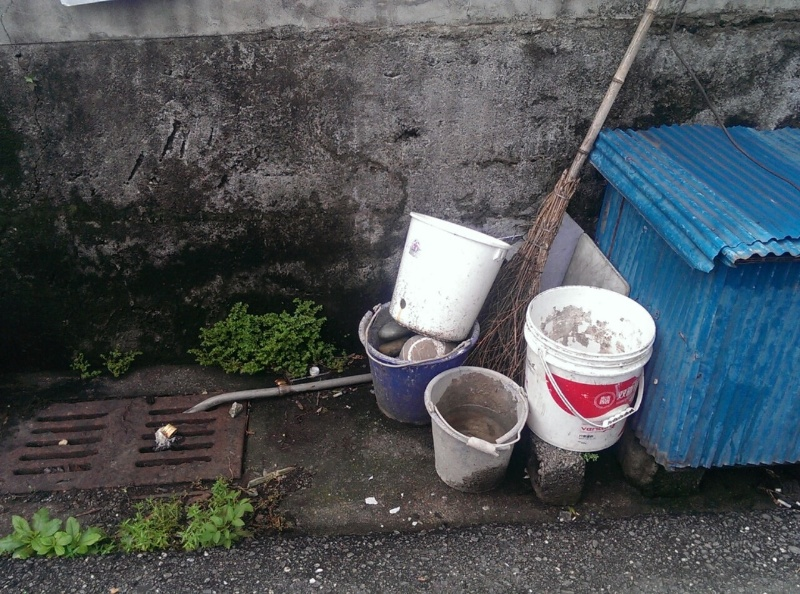bucket: (523, 284, 658, 454), (384, 209, 514, 344), (354, 303, 479, 430), (421, 365, 533, 496)
